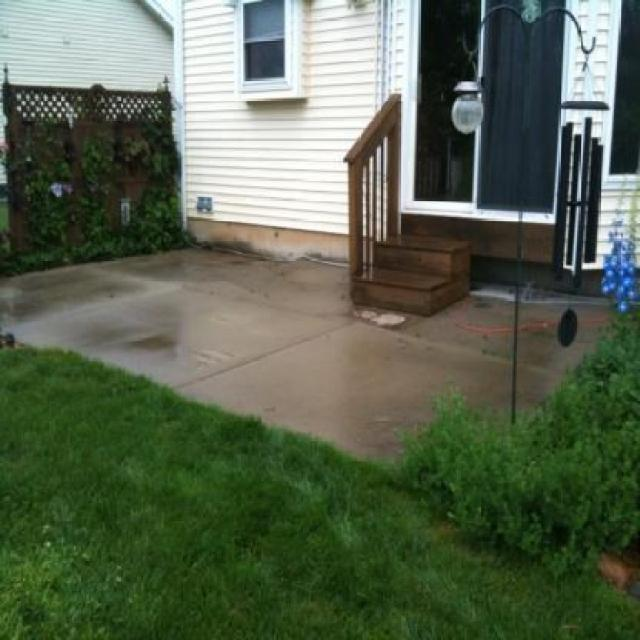stair: (352, 236, 470, 316)
